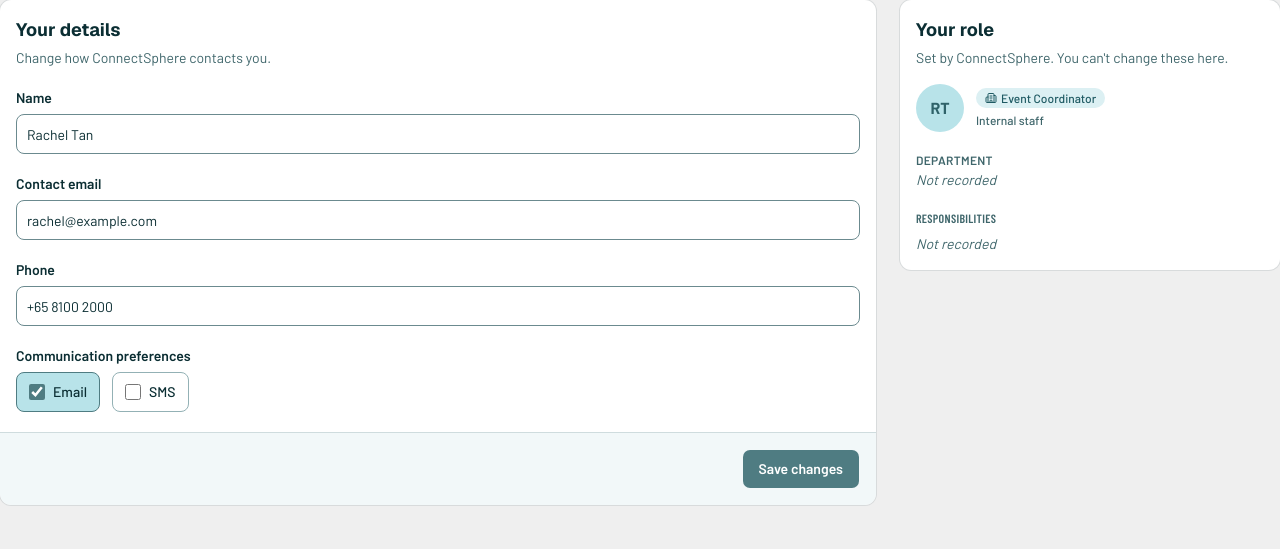
Test: SCRUM-68/AC6 profile form: saving › 68-S12: does not send anything when Save is pressed with a wrong box, and points out which one
Replace the text in the field labelled "Contact email" with "not-an-email" at x=438, y=220, box [16,200,860,240]
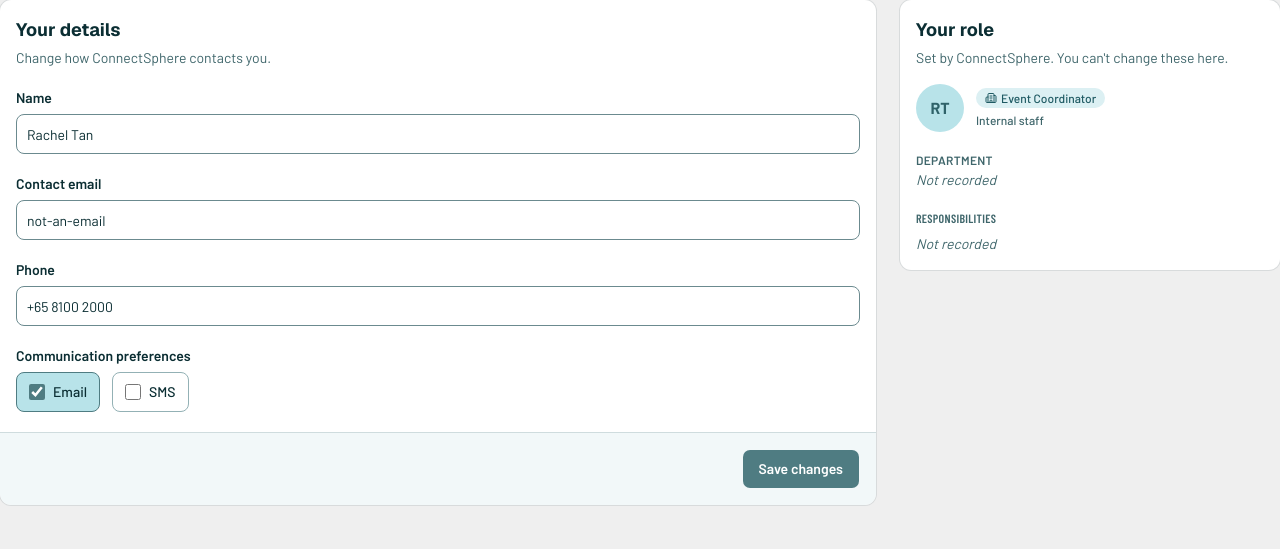
Click the button "Save changes" at x=801, y=469, box [742,449,860,489]
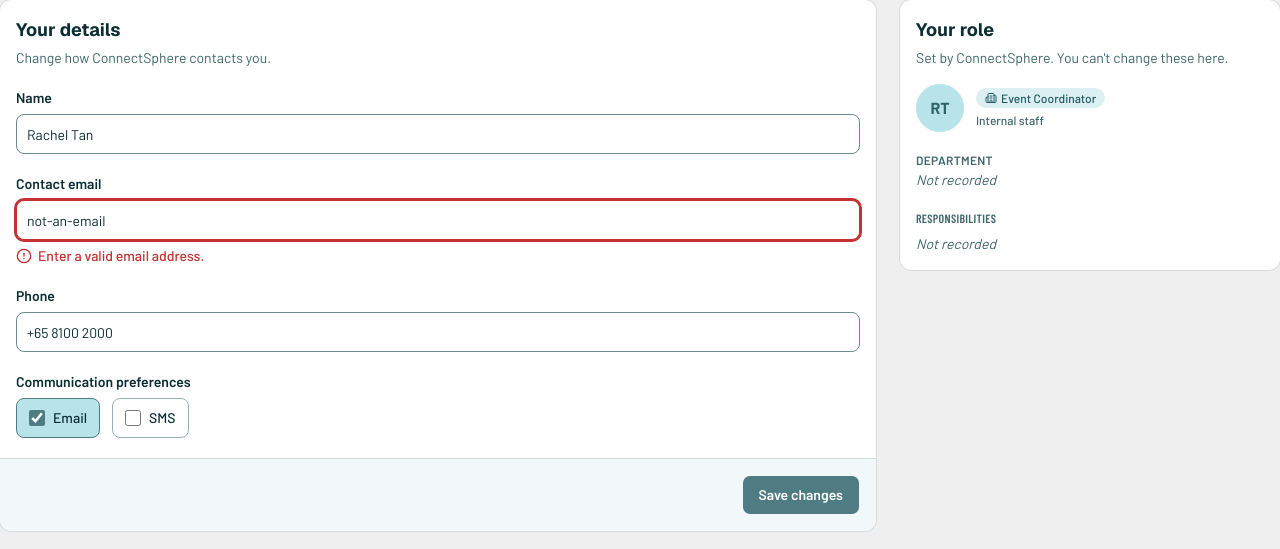
Expected: the field labelled "Name" holds "Rachel Tan", [16,114,860,154]
Expected: the text "Enter a valid email address." is shown, [16,247,204,264]
